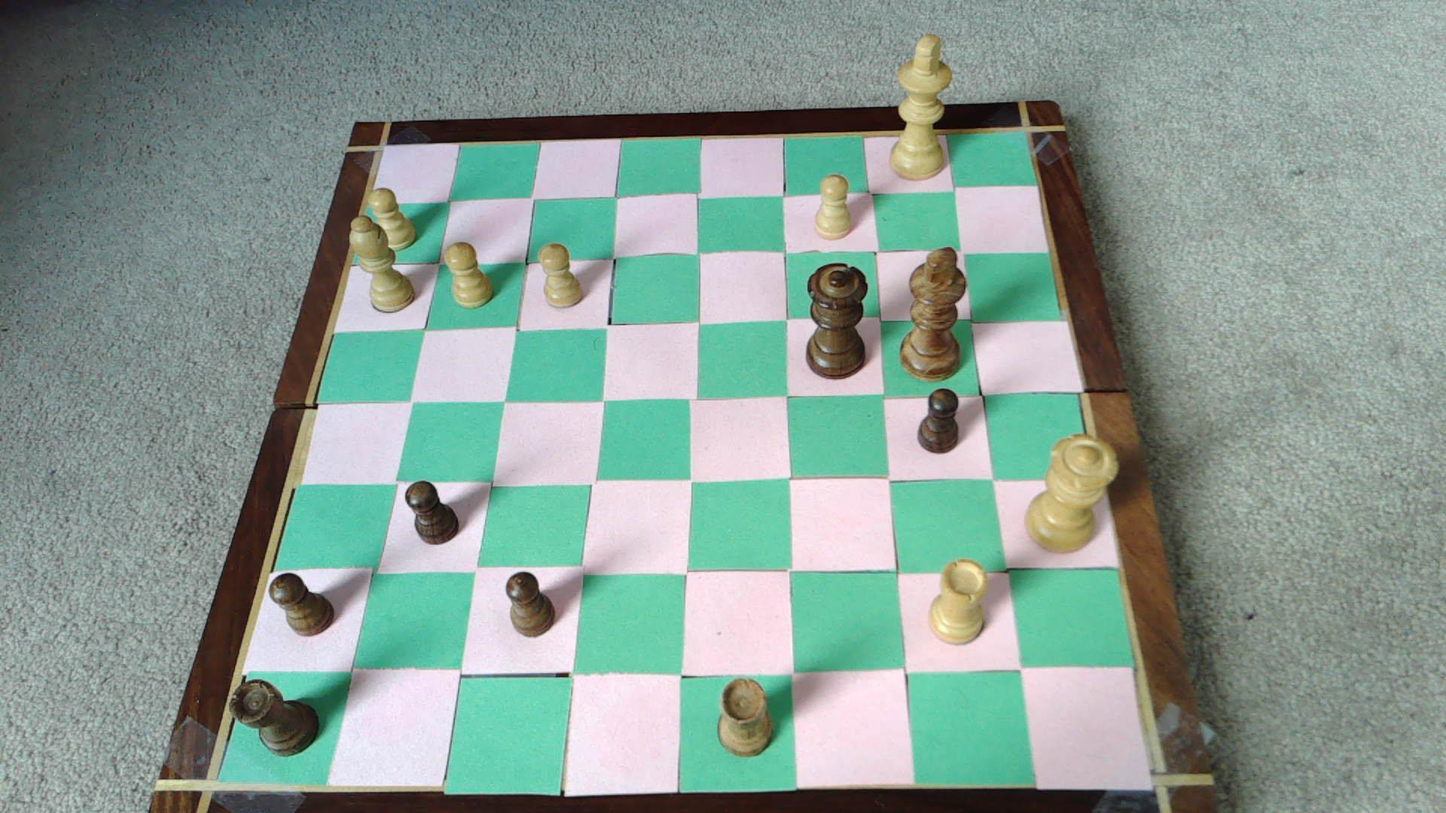dark_piece: (900, 248, 964, 379), (807, 263, 867, 378), (232, 680, 318, 754), (719, 676, 774, 755), (270, 573, 334, 635), (406, 481, 458, 543), (506, 571, 555, 636), (918, 388, 959, 452)
white_piece: (1027, 437, 1118, 552), (889, 33, 954, 180), (349, 214, 415, 312), (930, 559, 986, 643), (366, 188, 417, 251), (445, 243, 494, 307), (539, 243, 585, 308), (815, 175, 853, 240)
